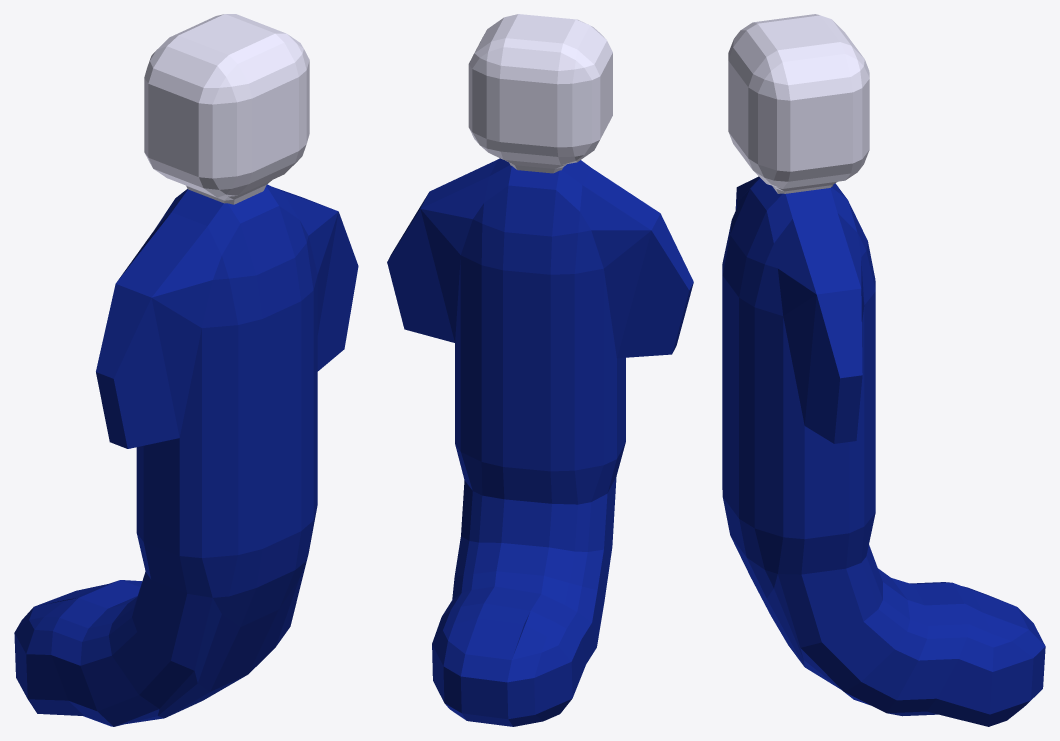
Rendered from Spooky.fbx.
3 renders of one model, left to right at view 1: azimuth 30°, elevation 25°; view 2: azimuth 150°, elevation 25°; view 3: azimuth 270°, elevation 25°, orthographic. The views are drawn at different scales.
Visible parts, largest first — view 1: SpookyCurepo, SpookyHead; view 2: SpookyCurepo, SpookyHead; view 3: SpookyCurepo, SpookyHead.
Part boxes in pixels (x1,y1,x2,y2): SpookyCurepo: (14,184,358,726); SpookyHead: (144,14,309,204); SpookyCurepo: (387,158,693,726); SpookyHead: (468,14,612,173); SpookyCurepo: (722,176,1045,726); SpookyHead: (728,14,869,193).
Bounding box in the file's own units: 99.73 × 223 × 95.07.
